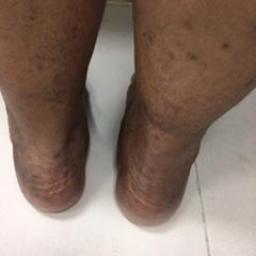Back View -Both Feet-: (3, 61, 243, 238)
